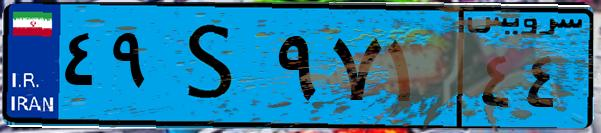1: (385, 28, 445, 110)
4: (57, 26, 110, 100), (475, 38, 525, 113), (525, 38, 570, 115)
7: (330, 28, 385, 110)
9: (270, 28, 330, 110), (110, 28, 158, 98)
S: (158, 12, 270, 120)
